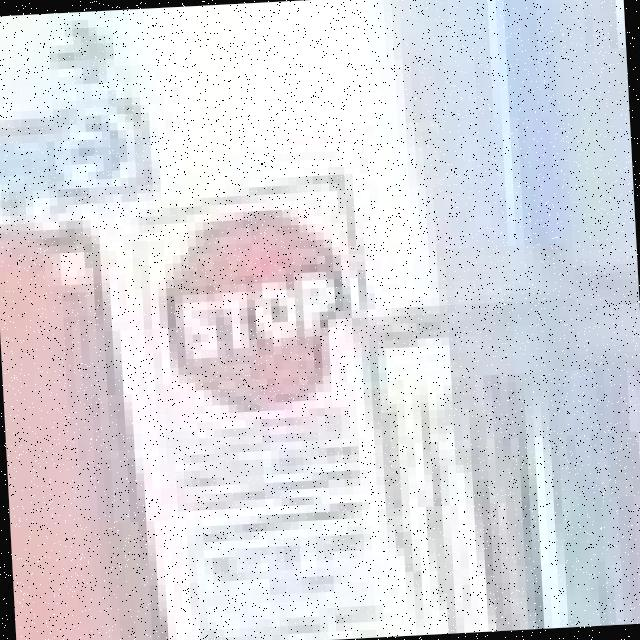Stop: (162, 208, 332, 416)
